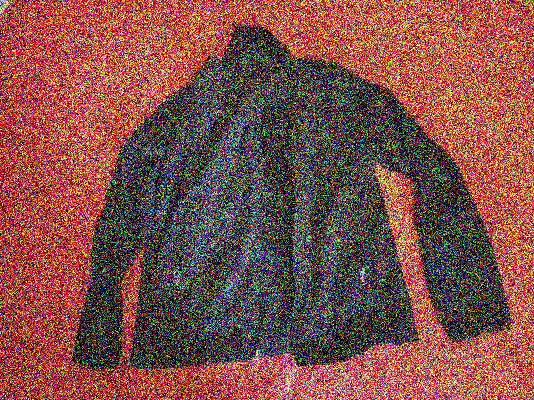Blazer: (59, 39, 510, 383)
